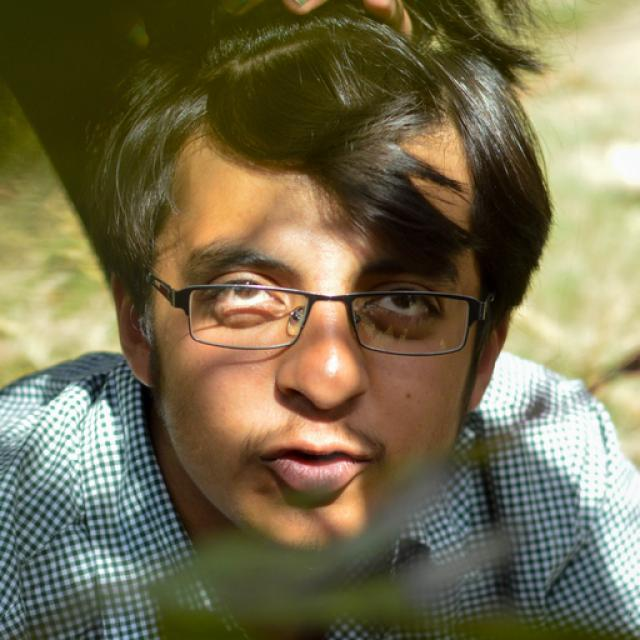happy: (154, 147, 475, 552)
